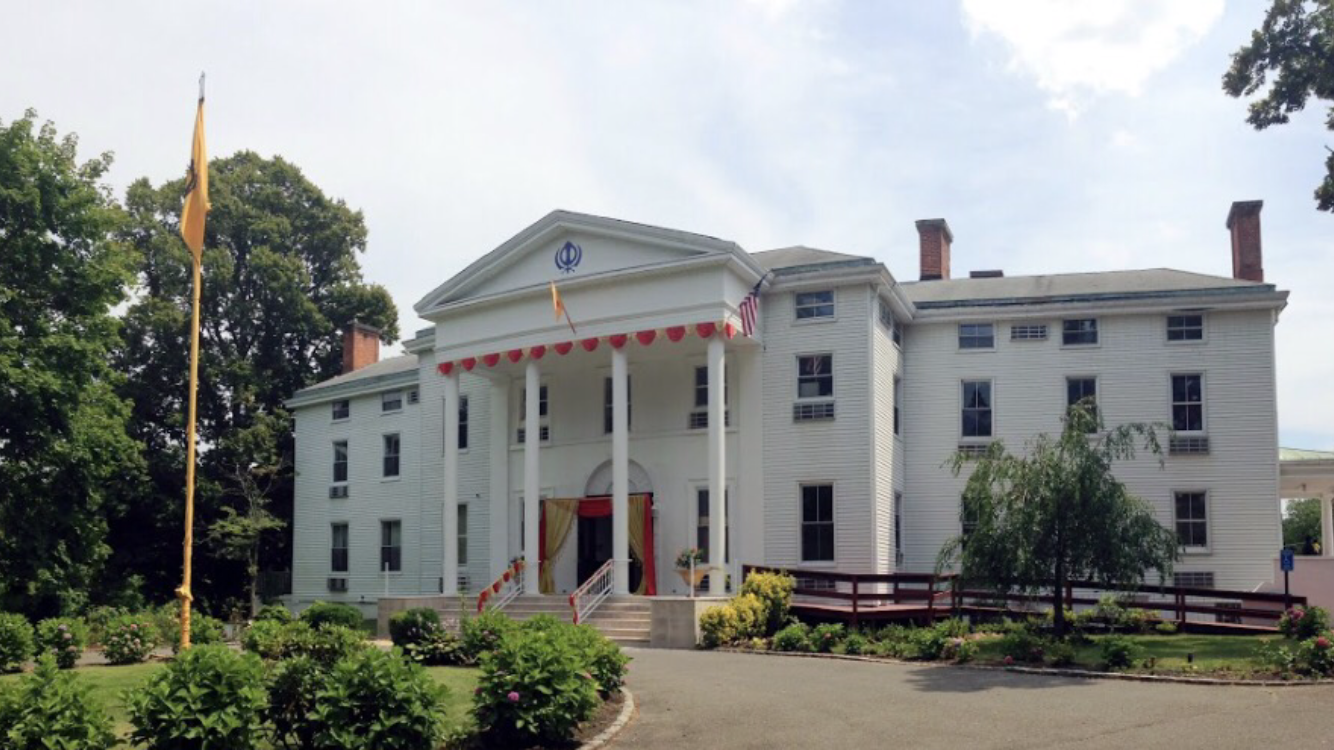Gurdwara: (223, 196, 1223, 602)
